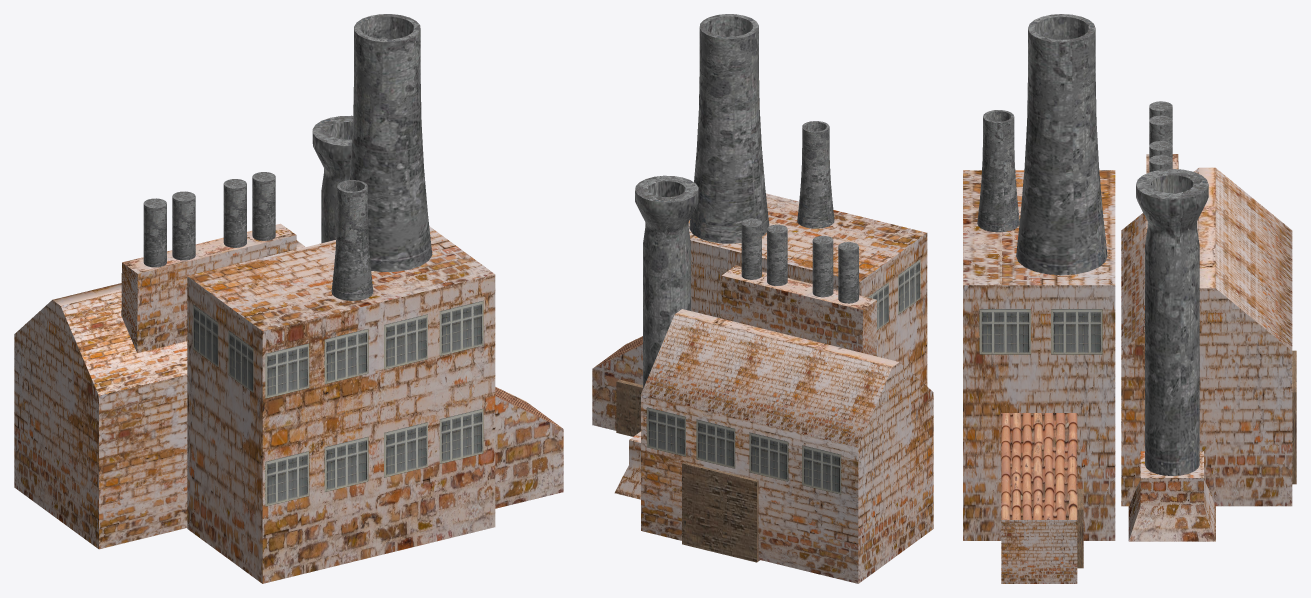
Rendered from Factory.fbx.
The picture shows the model from 3 angles, left to right: view 1: azimuth 30°, elevation 25°; view 2: azimuth 150°, elevation 25°; view 3: azimuth 270°, elevation 25°; orthographic projection. The views are drawn at different scales.
Visible parts, largest first — view 1: Window7; view 2: Window7; view 3: Window7.
Part boxes in pixels (x1,y1,x2,y2): Window7: (14,14,563,583); Window7: (592,14,933,583); Window7: (963,14,1296,583).
Bounding box in the file's own units: 17.26 × 19.6 × 12.18.
Materials: 6 (5 with a texture image).
